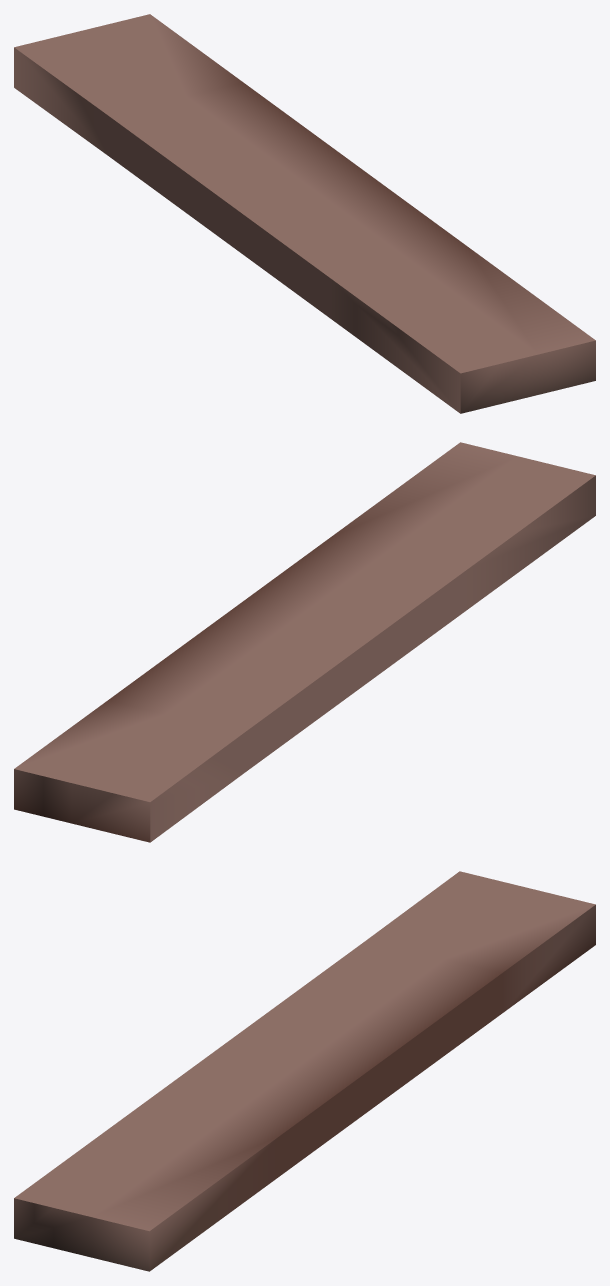
File: HallPlatformLeft.gltf
3 renders of one model, top to bottom at view 1: azimuth 30°, elevation 25°; view 2: azimuth 150°, elevation 25°; view 3: azimuth 330°, elevation 25°, orthographic.
Visible parts, largest first — view 1: HallPlatformLeftMesh; view 2: HallPlatformLeftMesh; view 3: HallPlatformLeftMesh.
Boxes of the visible parts, left/top/right/bottom form: HallPlatformLeftMesh: left=14, top=14, right=595, bottom=413; HallPlatformLeftMesh: left=14, top=442, right=595, bottom=842; HallPlatformLeftMesh: left=14, top=871, right=595, bottom=1271.
Size of the model in its own units: 3.51 by 0.9969 by 19.94.
